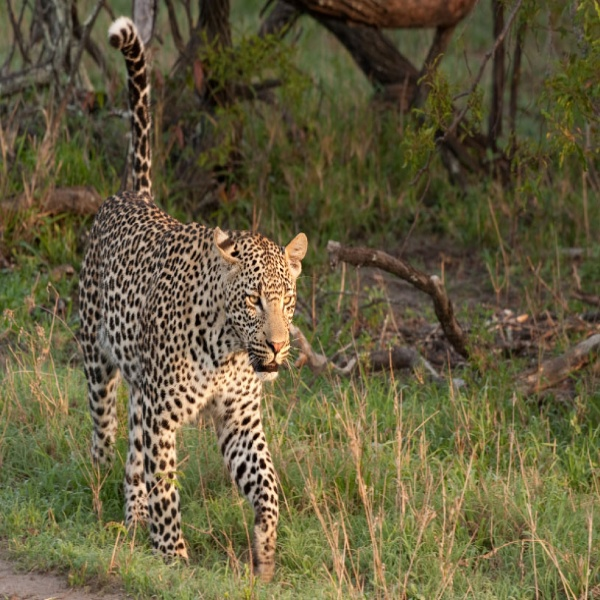Leopard: (70, 16, 314, 584)
